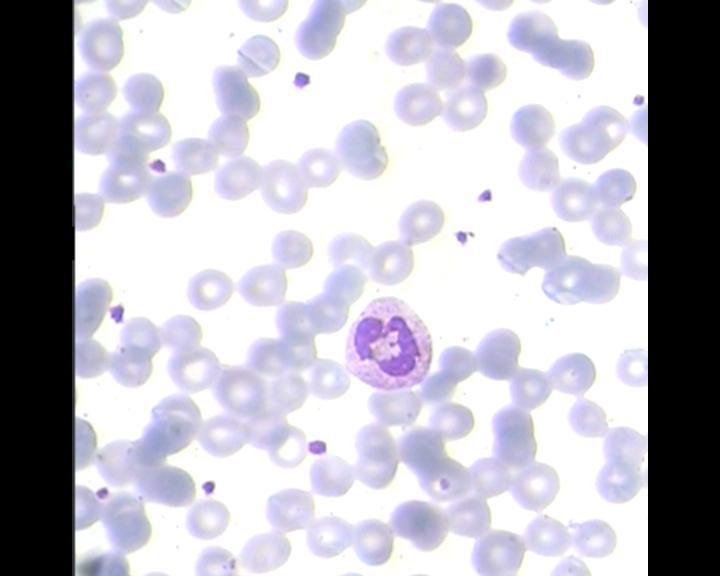neut: (340, 291, 438, 395)
